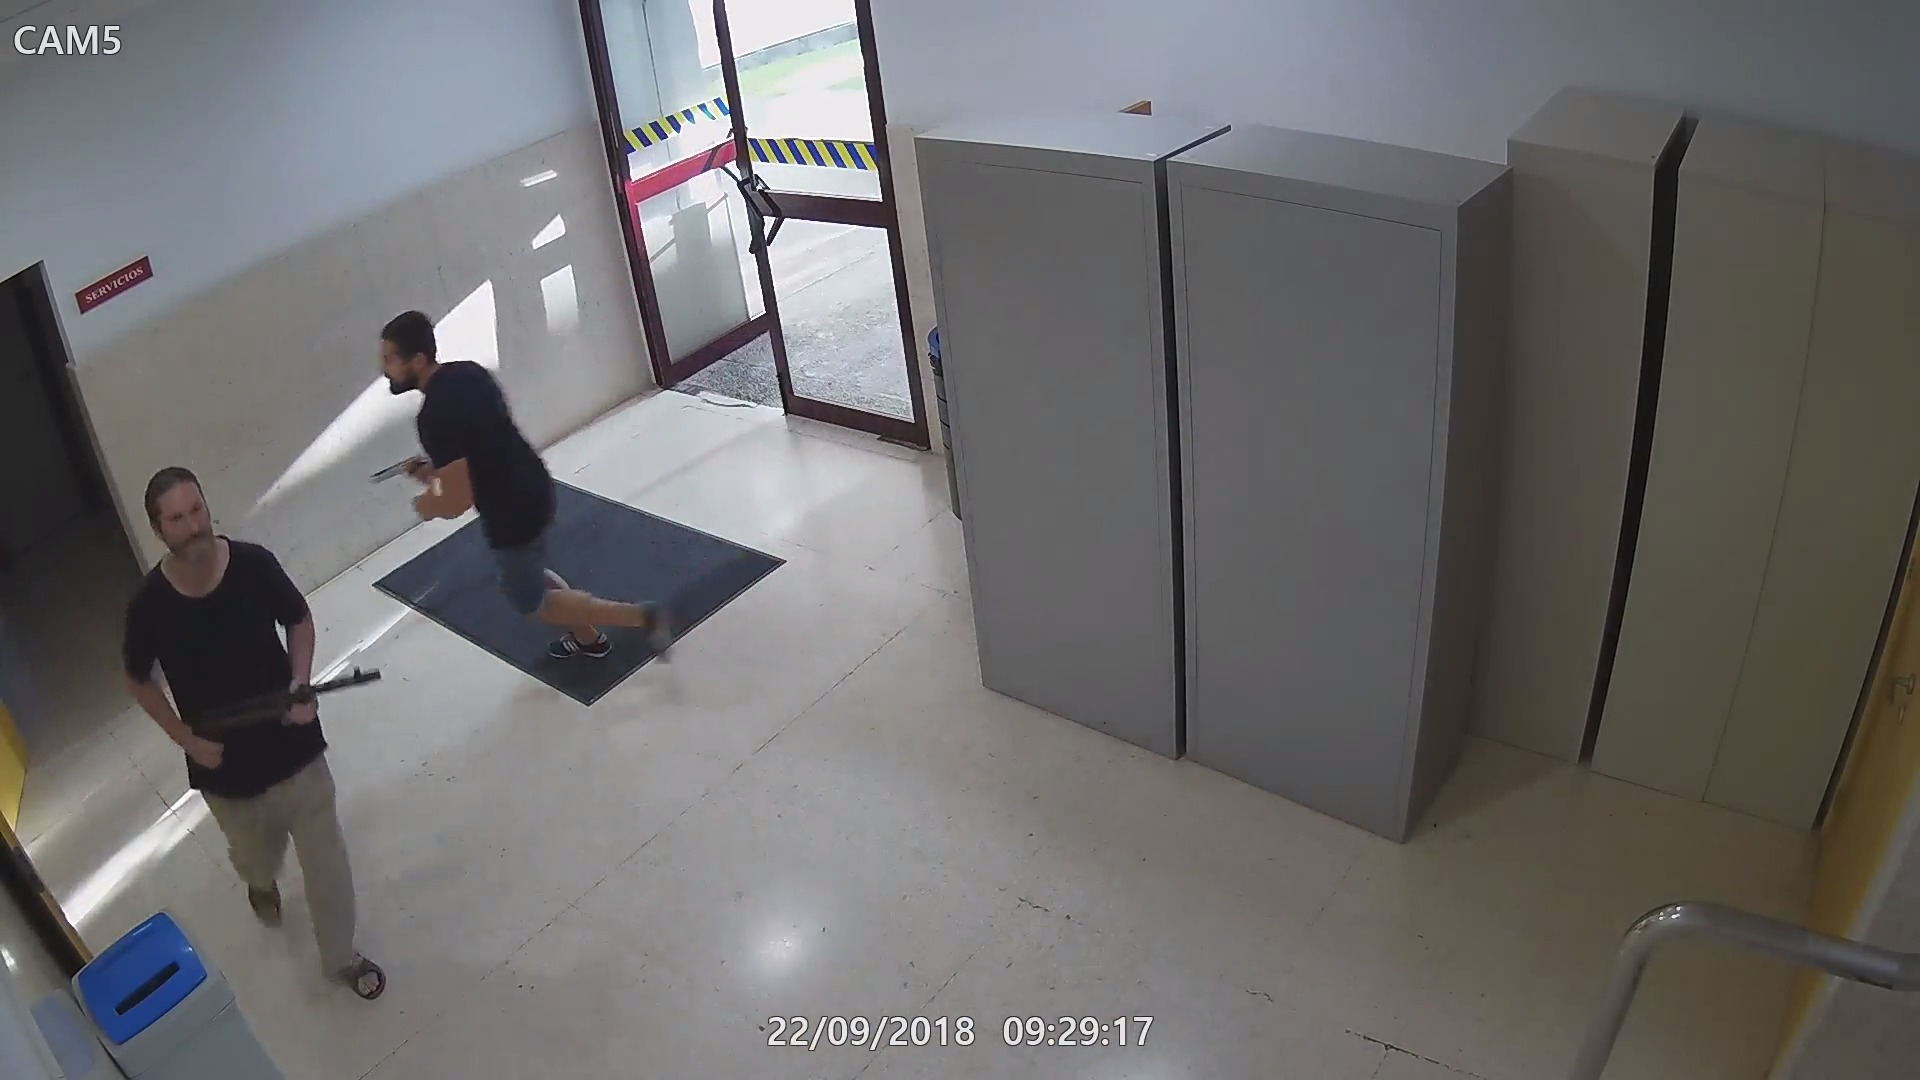Handgun: (363, 454, 439, 495)
Short_rifle: (186, 666, 388, 774)
